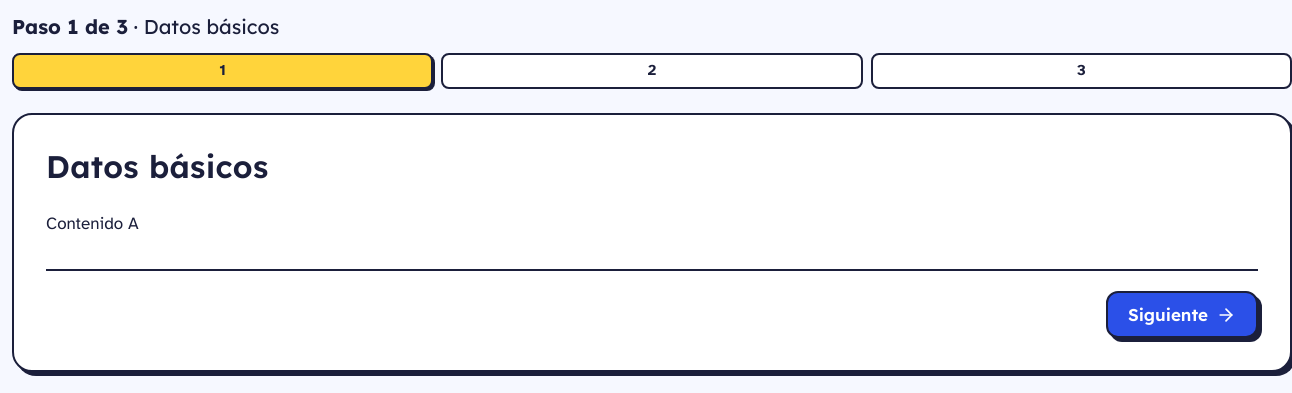
it: Wizard › avanza y retrocede un tema por pantalla
Check: the text "Paso 1 de 3" is shown, box [12, 14, 128, 39]
Check: the text "Contenido A" is shown, box [46, 213, 139, 234]
Click the button "Siguiente" at {"x": 1182, "y": 315}, box [1106, 291, 1258, 338]
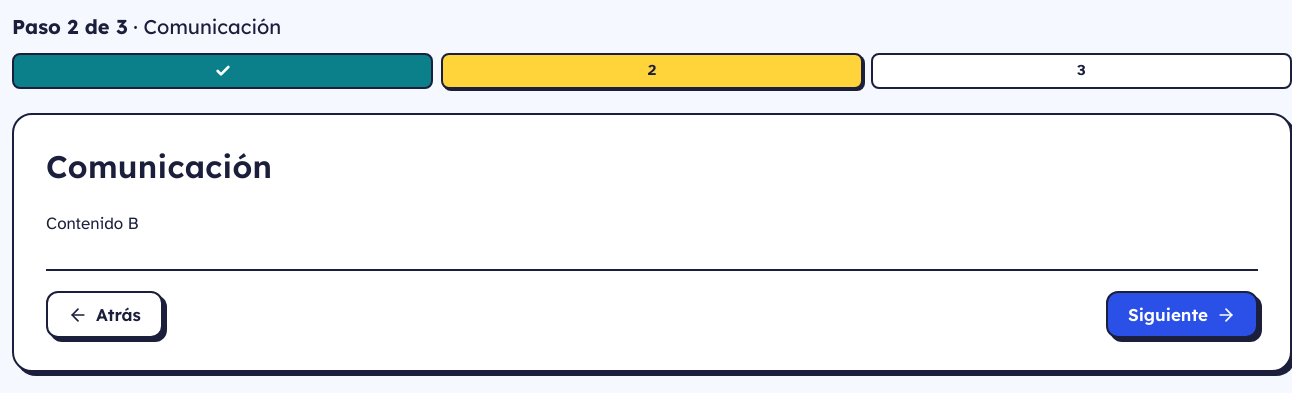
Check: the text "Contenido B" is shown, box [46, 213, 138, 234]
Check: the text "Paso 2 de 3" is shown, box [12, 14, 128, 39]
Click the button "Atrás" at {"x": 104, "y": 315}, box [46, 291, 163, 338]
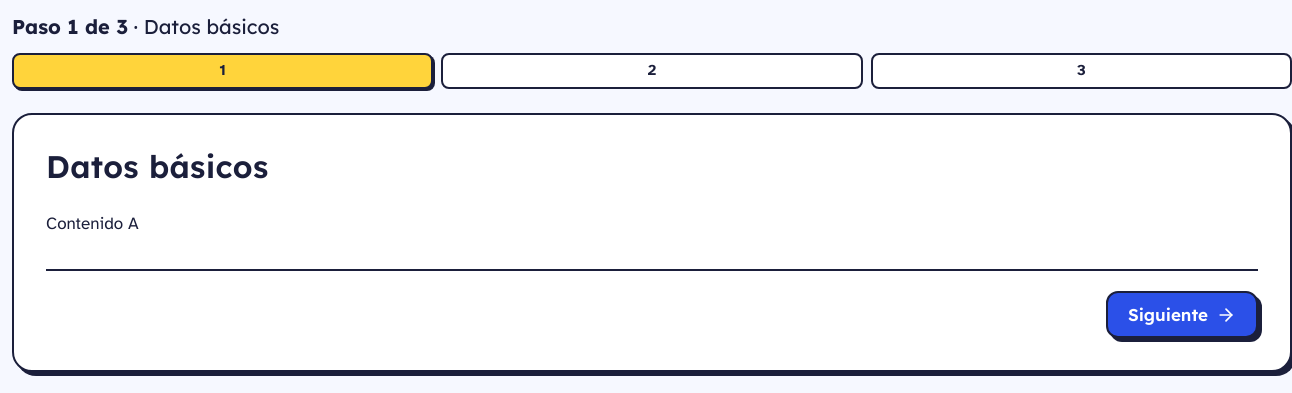
Check: the text "Contenido A" is shown, box [46, 213, 139, 234]
